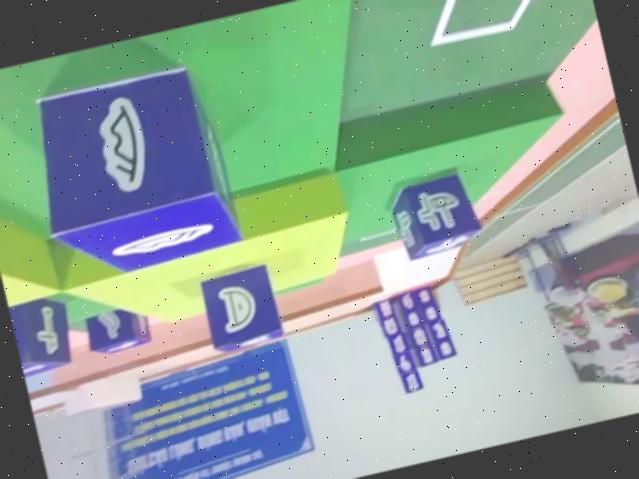R2 Real Blue: (20, 58, 248, 292), (386, 168, 486, 261), (196, 259, 288, 355), (6, 290, 75, 375), (78, 299, 150, 355)
